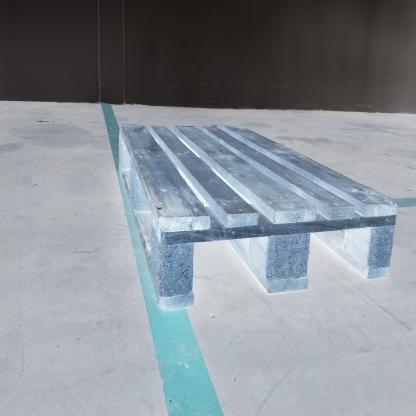BoxFace: (114, 121, 401, 317)
